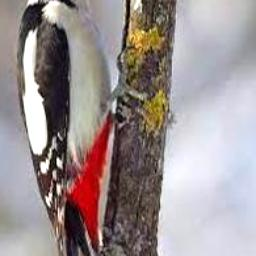Woodpecker: (16, 0, 139, 256)
